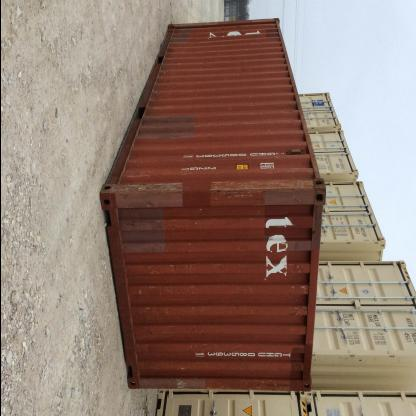Damage: (134, 105, 202, 150), (103, 178, 186, 206), (209, 178, 266, 206), (164, 22, 194, 52)
